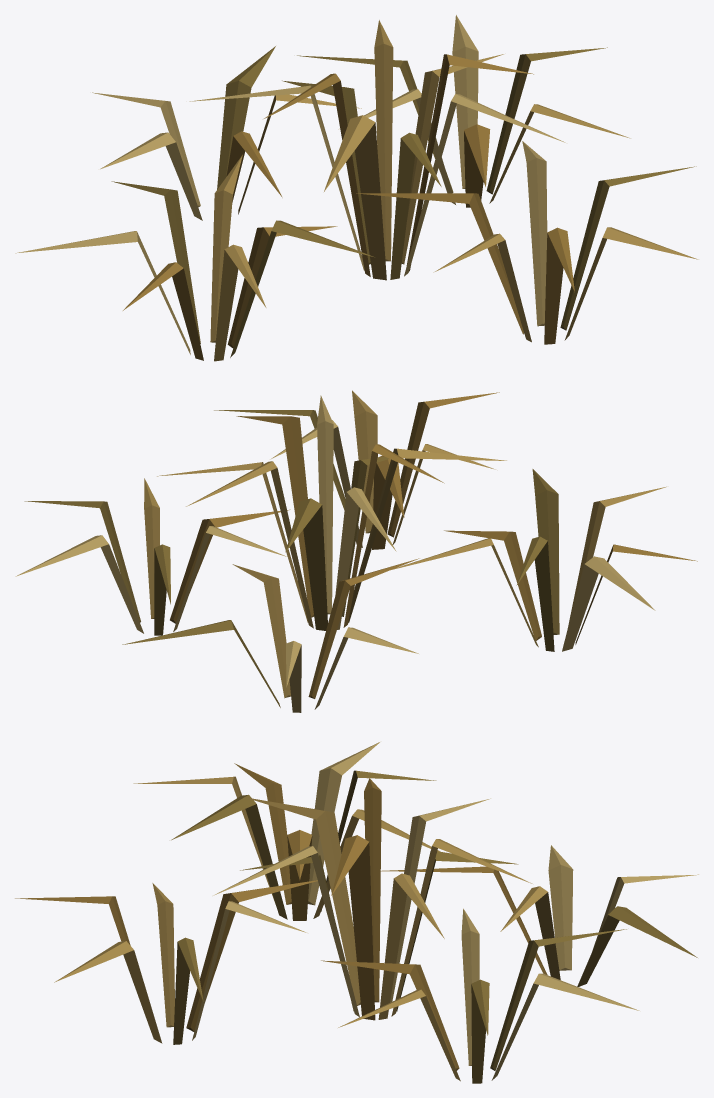
Rendered from grass-cushion.glb.
3 renders of one model, top to bottom at view 1: azimuth 30°, elevation 25°; view 2: azimuth 150°, elevation 25°; view 3: azimuth 270°, elevation 25°, orthographic. The views are drawn at different scales.
Parts seen in each view (by area): view 1: GrassCushion; view 2: GrassCushion; view 3: GrassCushion.
Part boxes in pixels (x1,y1,x2,y2): GrassCushion: (15, 15, 698, 361); GrassCushion: (15, 390, 697, 712); GrassCushion: (15, 742, 698, 1083).
Bounding box in the file's own units: 0.8511 × 0.2631 × 0.8199.
